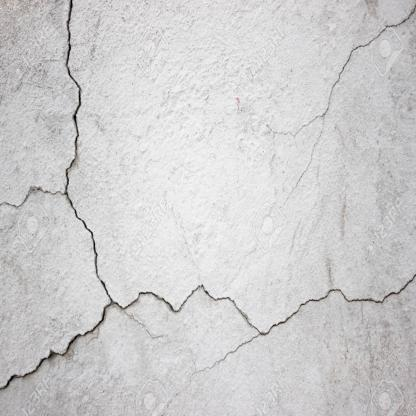branched cracks: (0, 0, 415, 390), (295, 3, 415, 187)
